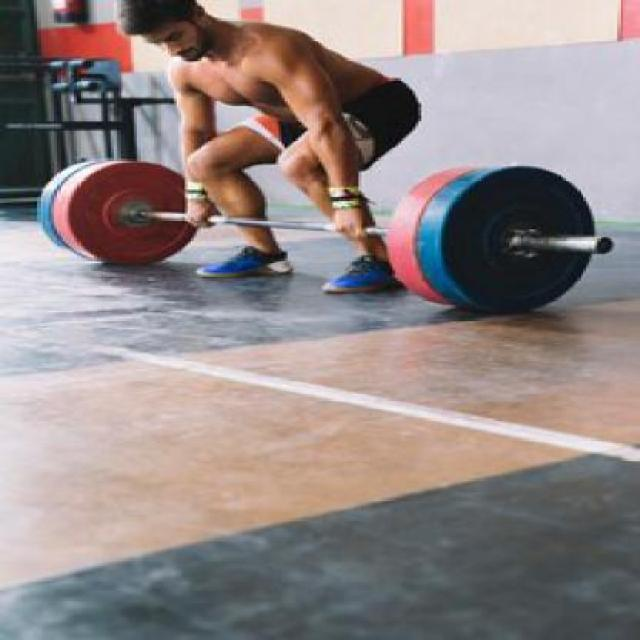barbell: (382, 150, 623, 319)
